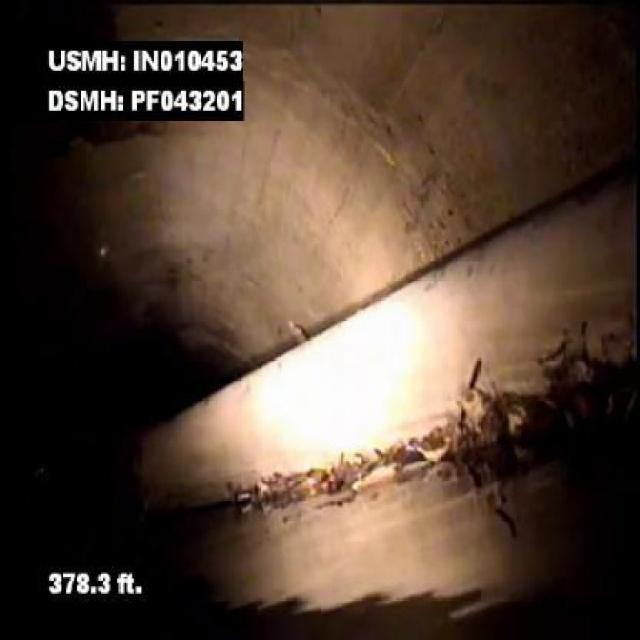Utility intrusion: (222, 168, 638, 506)
